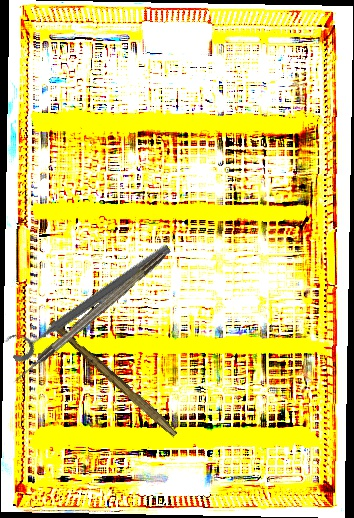Fixation Ring: (1, 231, 175, 366)
Hook Surgical: (9, 250, 169, 386)
Scalpel Handle: (46, 318, 182, 438)
